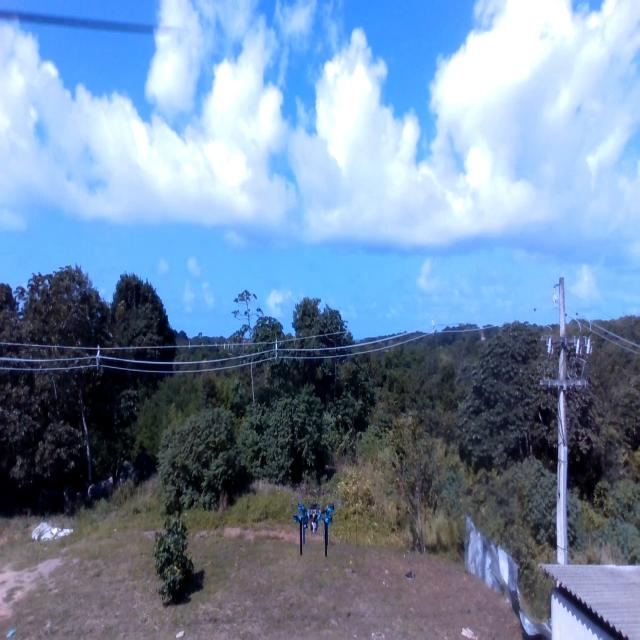-uav-: (288, 489, 340, 561)
